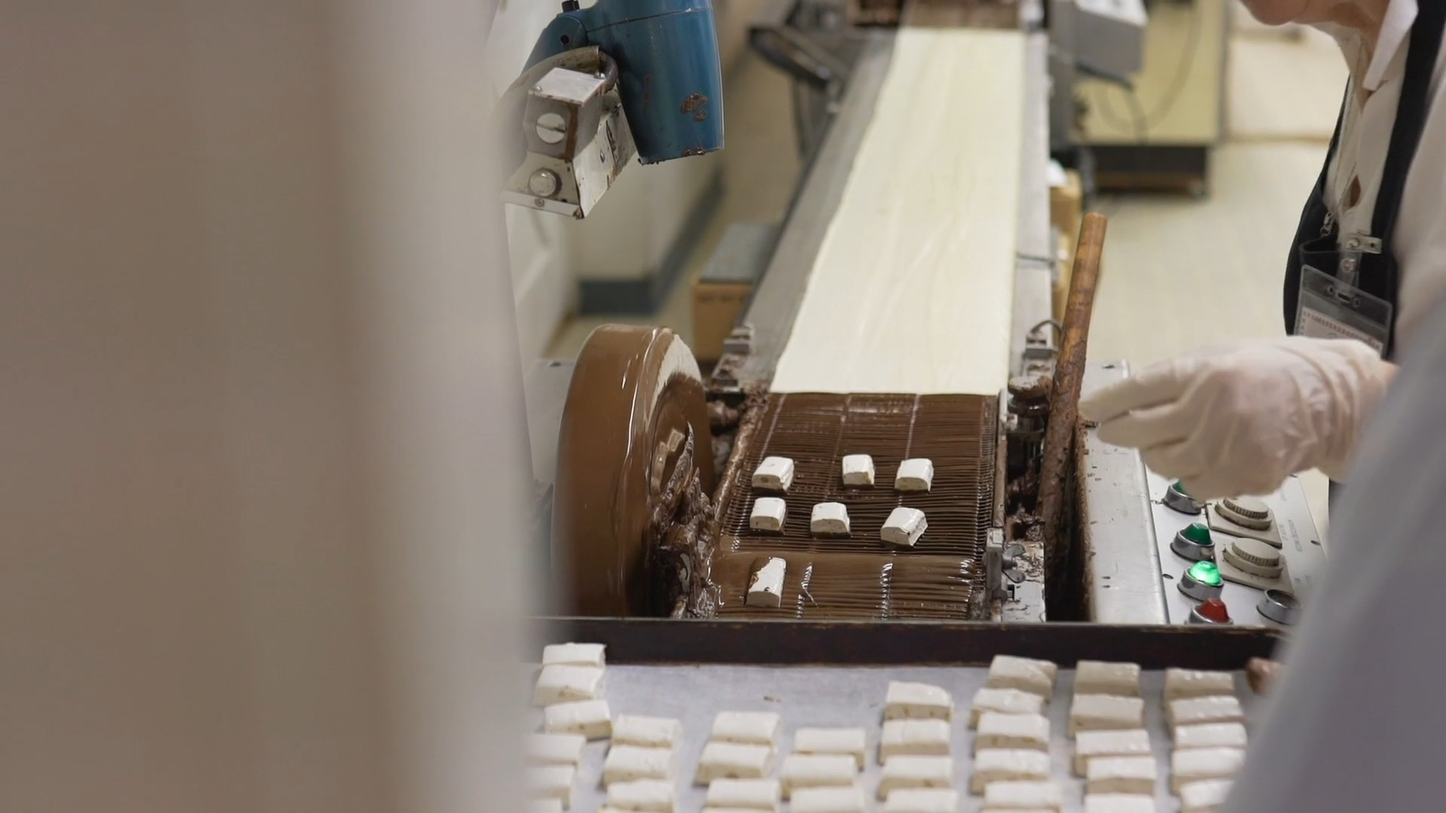gloves: (1075, 337, 1375, 524)
